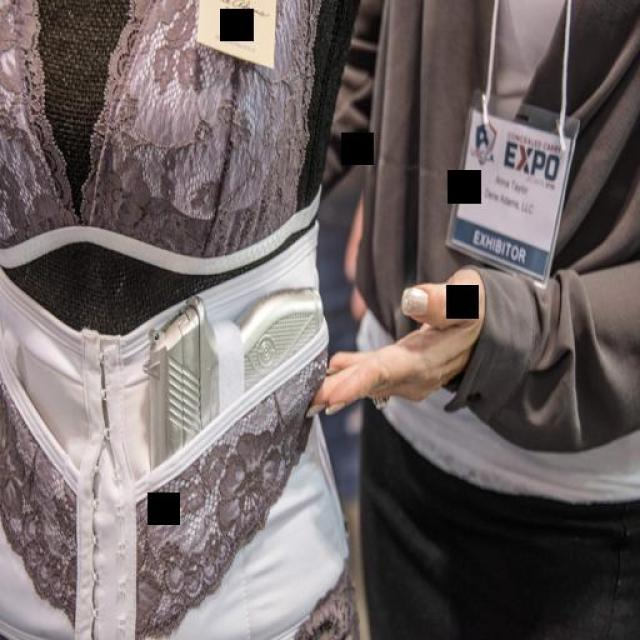gun: (138, 244, 328, 590)
